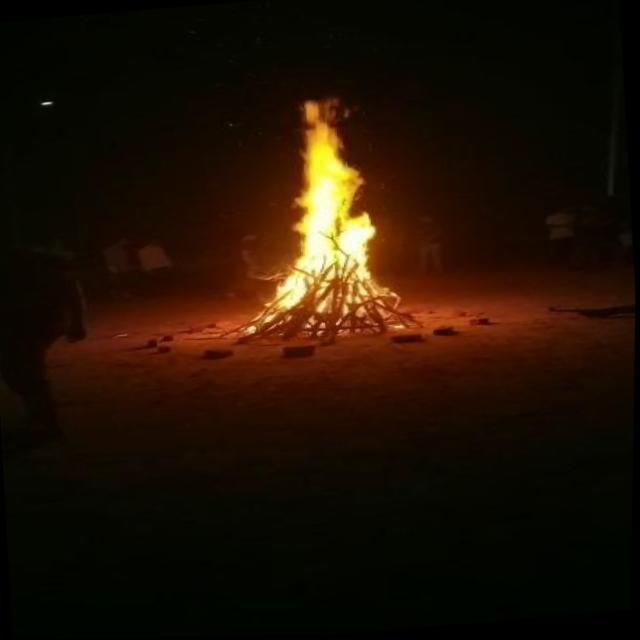fire: (226, 86, 407, 338)
